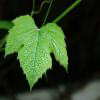grape leaf: (3, 15, 71, 92)
